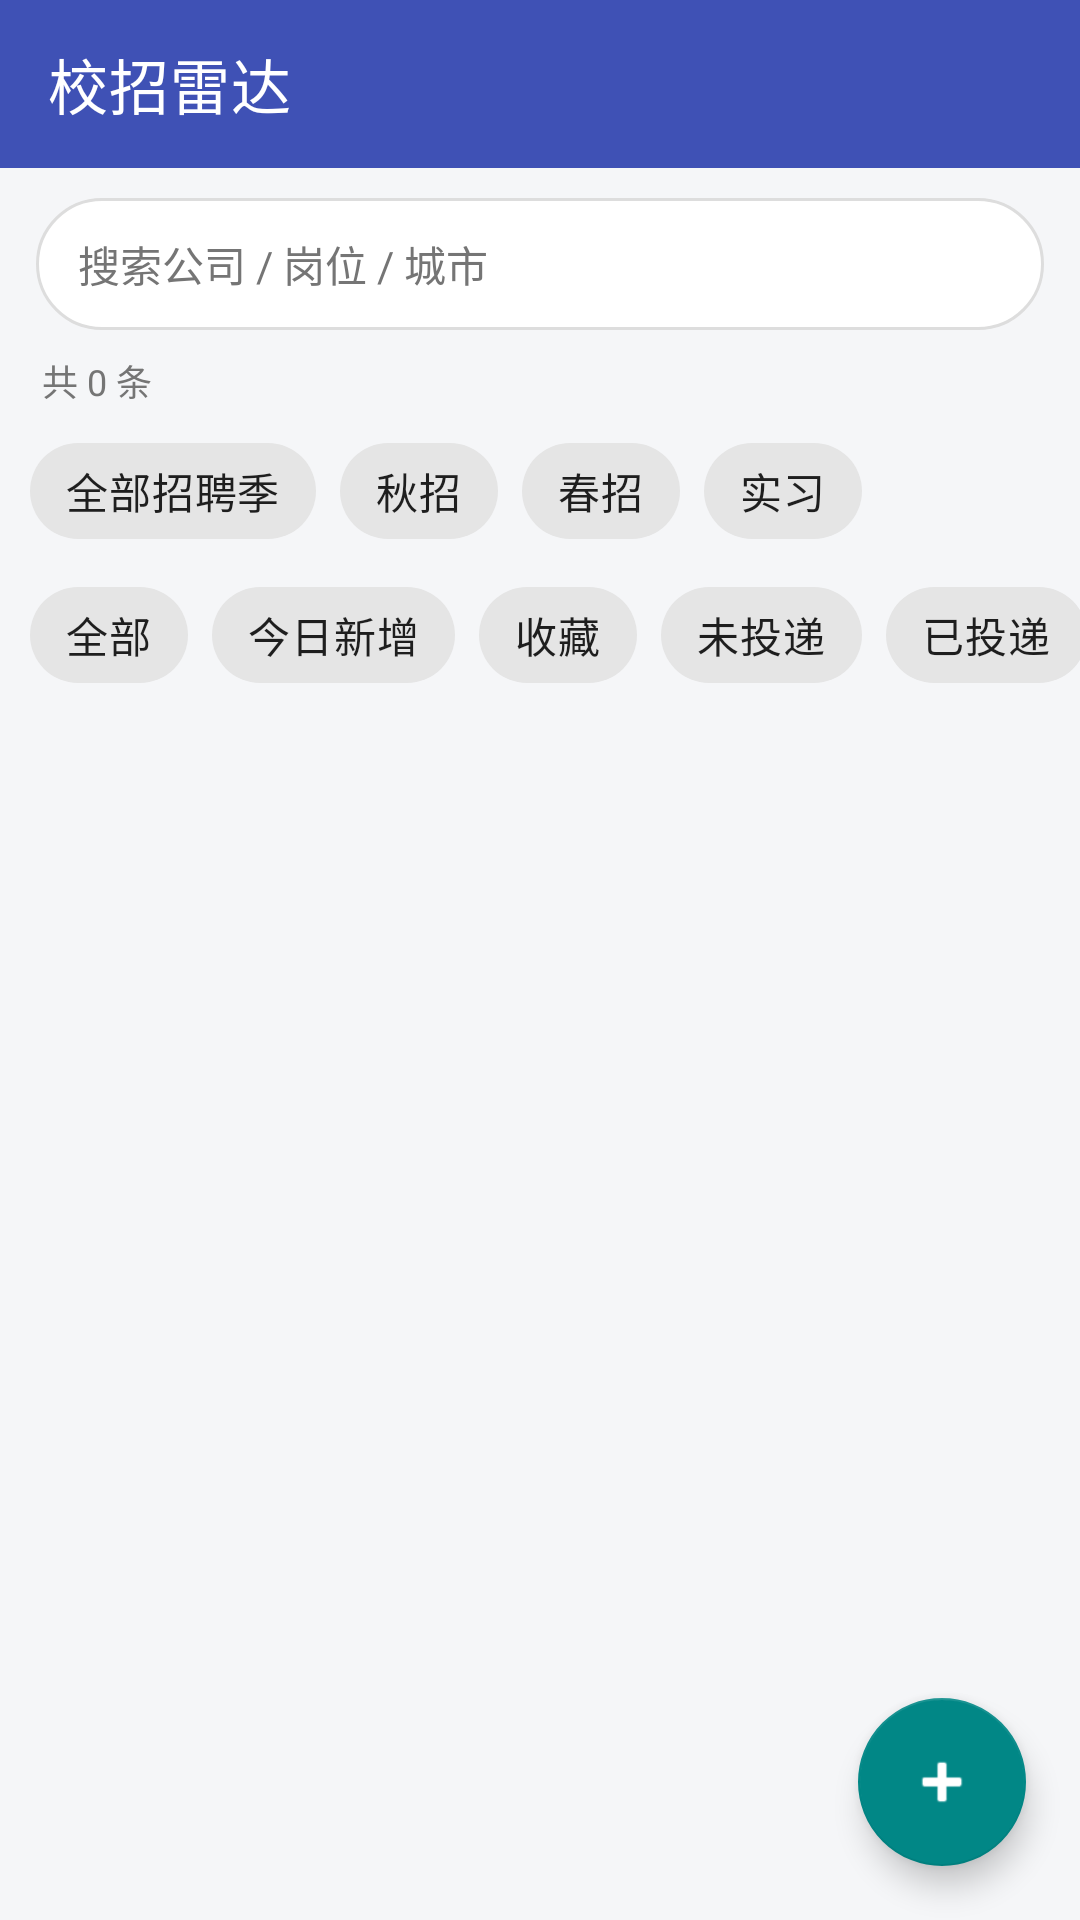

Icon bounding boxes for this 1080px×1920px phone screenshot, format (x1, y1, x2, y2):
手动添加: (858, 1698, 1026, 1866)
